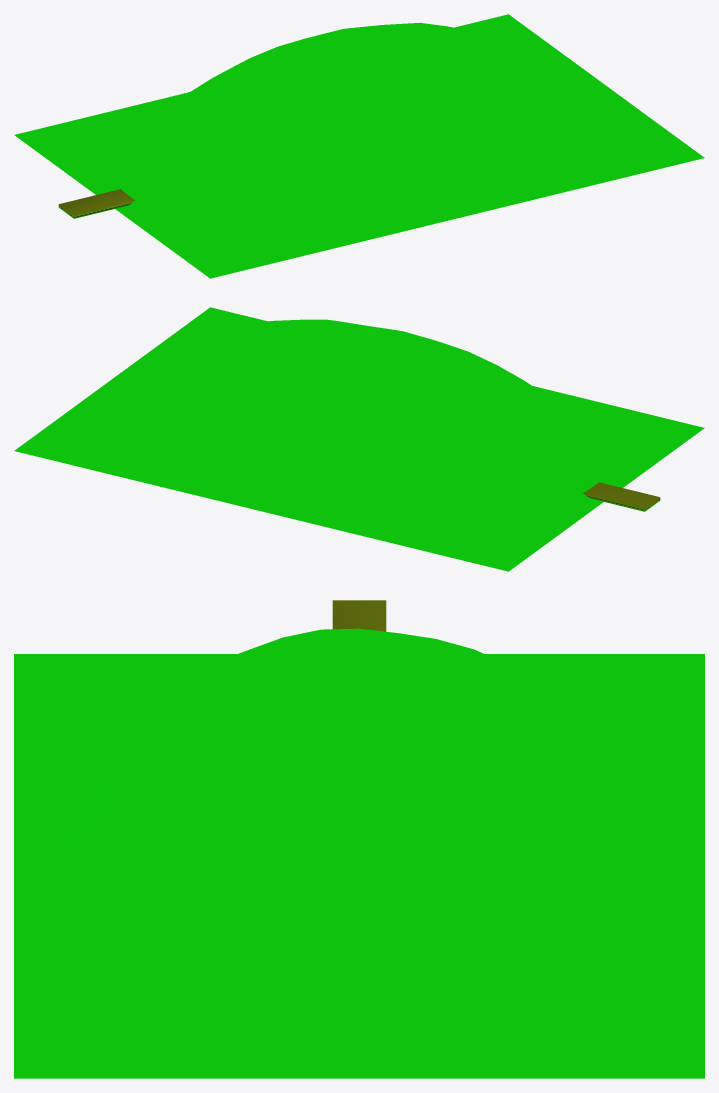
File: ash_drift.glb
3 views of the same model, one above another, from view 1: azimuth 30°, elevation 25°; view 2: azimuth 150°, elevation 25°; view 3: azimuth 270°, elevation 25° (orthographic). The views are drawn at different scales.
Visible parts, largest first — view 1: ash_drift; view 2: ash_drift; view 3: ash_drift.
Boxes of the visible parts, x1,y1,x2,y2 form: ash_drift: (14, 14, 704, 278); ash_drift: (14, 307, 704, 571); ash_drift: (14, 600, 704, 1078).
Size of what is drawn, in the model's own units: 3.5 by 0.5951 by 2.2.
